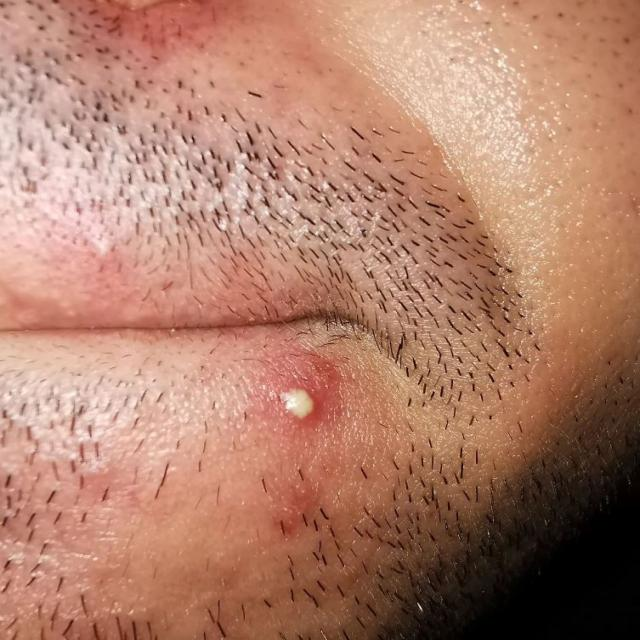blackheads: (262, 368, 331, 434)
